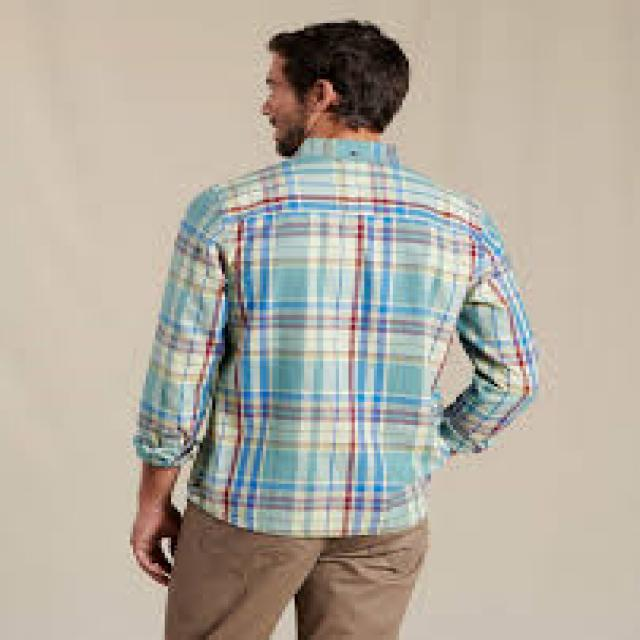plaid: (141, 129, 539, 533)
